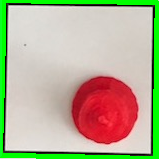Red King: (70, 75, 143, 147)
